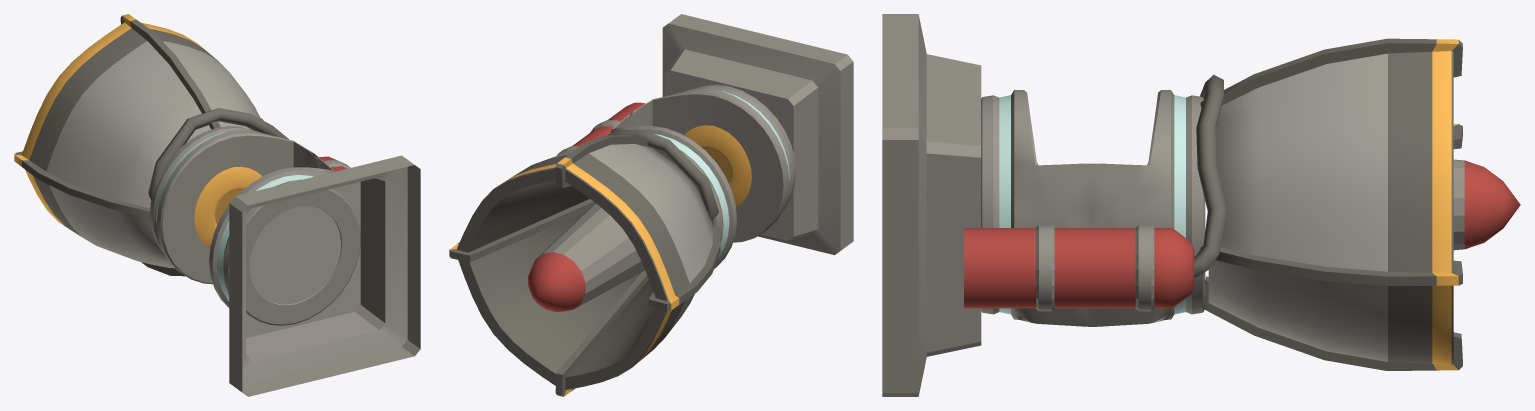
The model's file is Thruster.FBX.
The picture shows the model from 3 angles, left to right: view 1: azimuth 30°, elevation 25°; view 2: azimuth 150°, elevation 25°; view 3: azimuth 270°, elevation 25°; orthographic projection. The views are drawn at different scales.
Parts seen in each view (by area): view 1: Object001; view 2: Object001; view 3: Object001.
Part boxes in pixels (bbox=[...]): Object001: bbox=[14, 14, 420, 396]; Object001: bbox=[449, 14, 853, 396]; Object001: bbox=[882, 14, 1520, 396].
Size of the model in its own units: 1.2 by 1.16 by 2.04.
